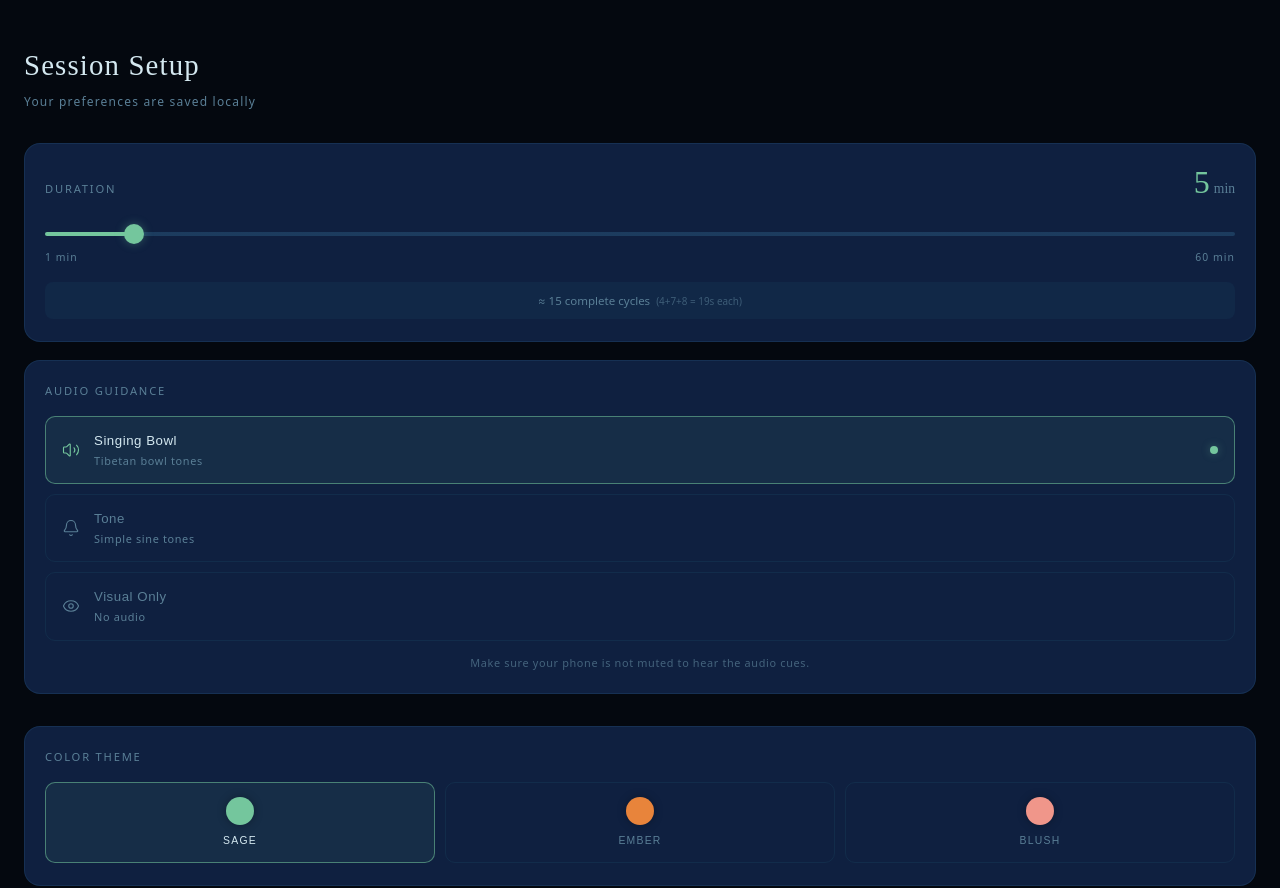
it: Setup page › hides mute hint when Visual Only is selected
The image size is (1280, 888).
Click the text "Visual Only".
click(130, 597)  # box 94,587 -> 167,607
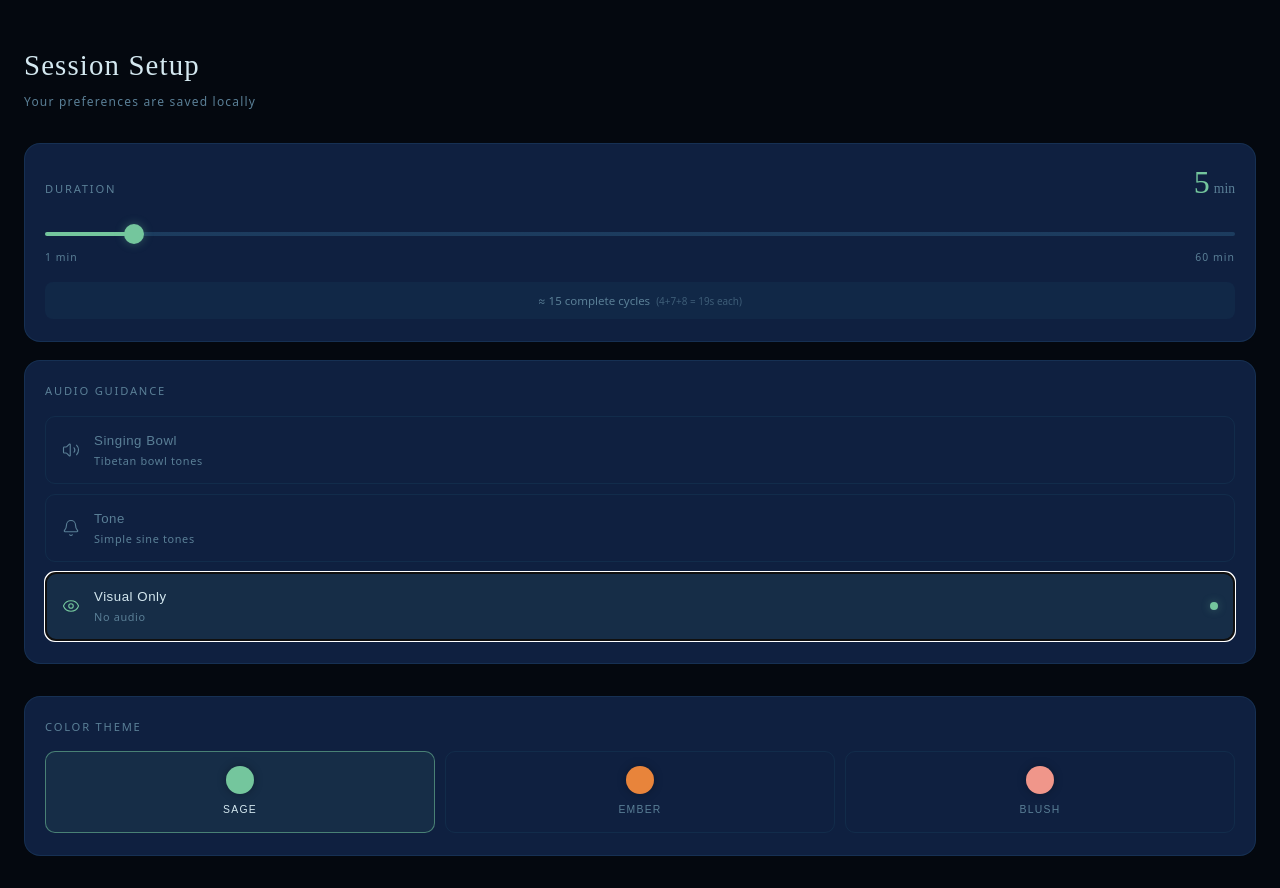
Check: the text "not muted" is gone
